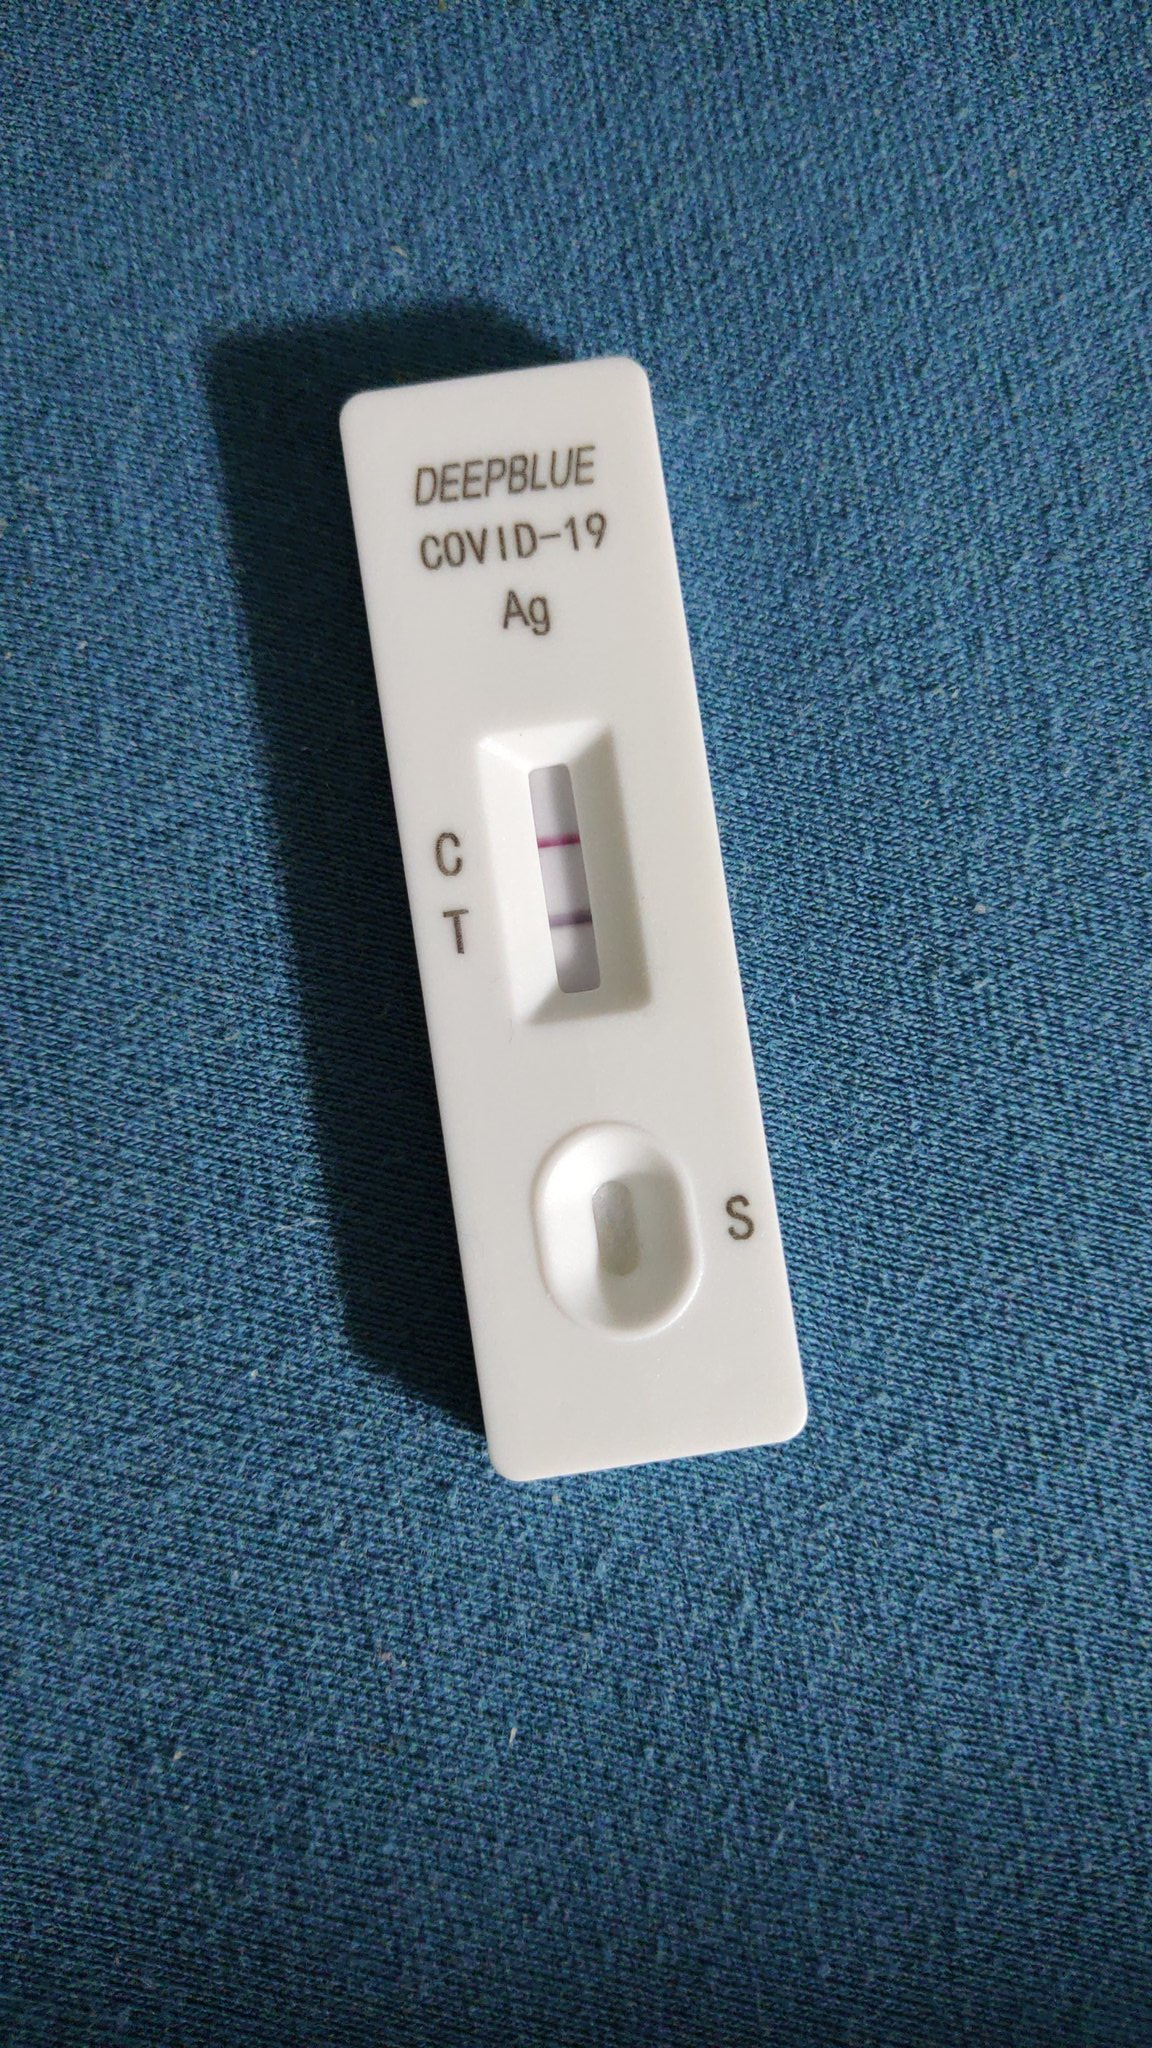positive: (520, 755, 632, 1016)
